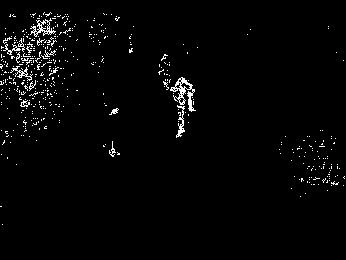person: (168, 75, 198, 141)
